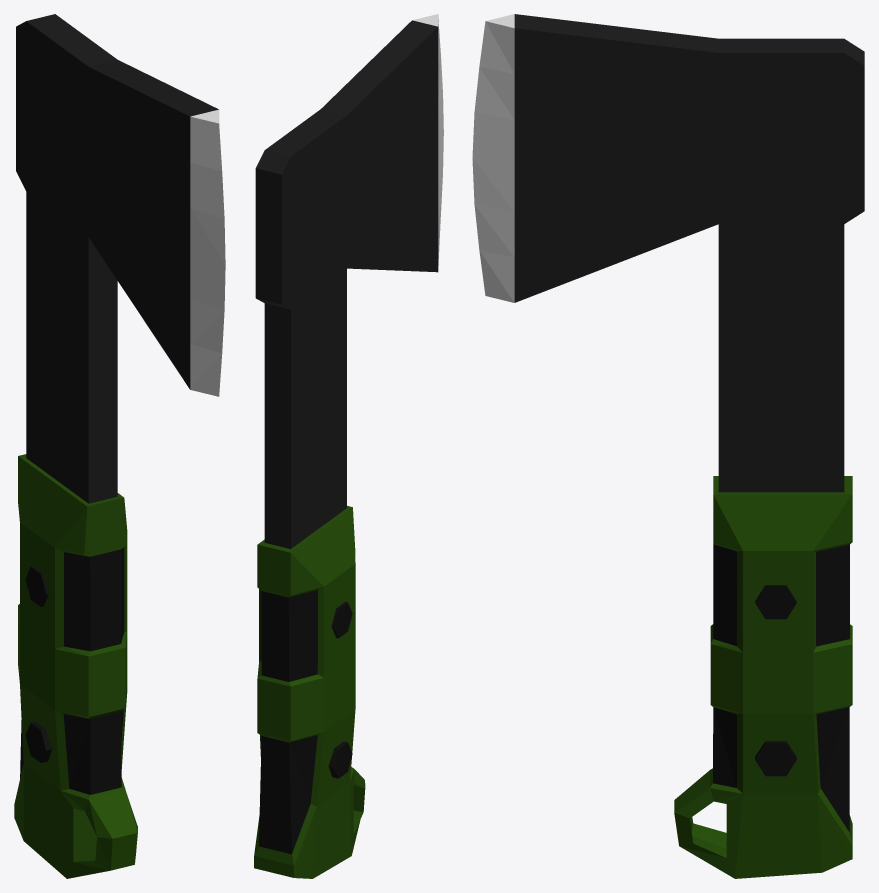
The model's file is Hand Axe.obj.
3 renders of one model, left to right at view 1: azimuth 30°, elevation 25°; view 2: azimuth 150°, elevation 25°; view 3: azimuth 270°, elevation 25°, orthographic. The views are drawn at different scales.
Visible parts, largest first — view 1: Hand_Axe_Plane.005; view 2: Hand_Axe_Plane.005; view 3: Hand_Axe_Plane.005.
Boxes of the visible parts, bbox=[...] form: Hand_Axe_Plane.005: bbox=[14, 14, 225, 878]; Hand_Axe_Plane.005: bbox=[254, 14, 443, 878]; Hand_Axe_Plane.005: bbox=[472, 14, 864, 878].
Bounding box in the file's own units: 0.0327 × 0.3371 × 0.1419.
